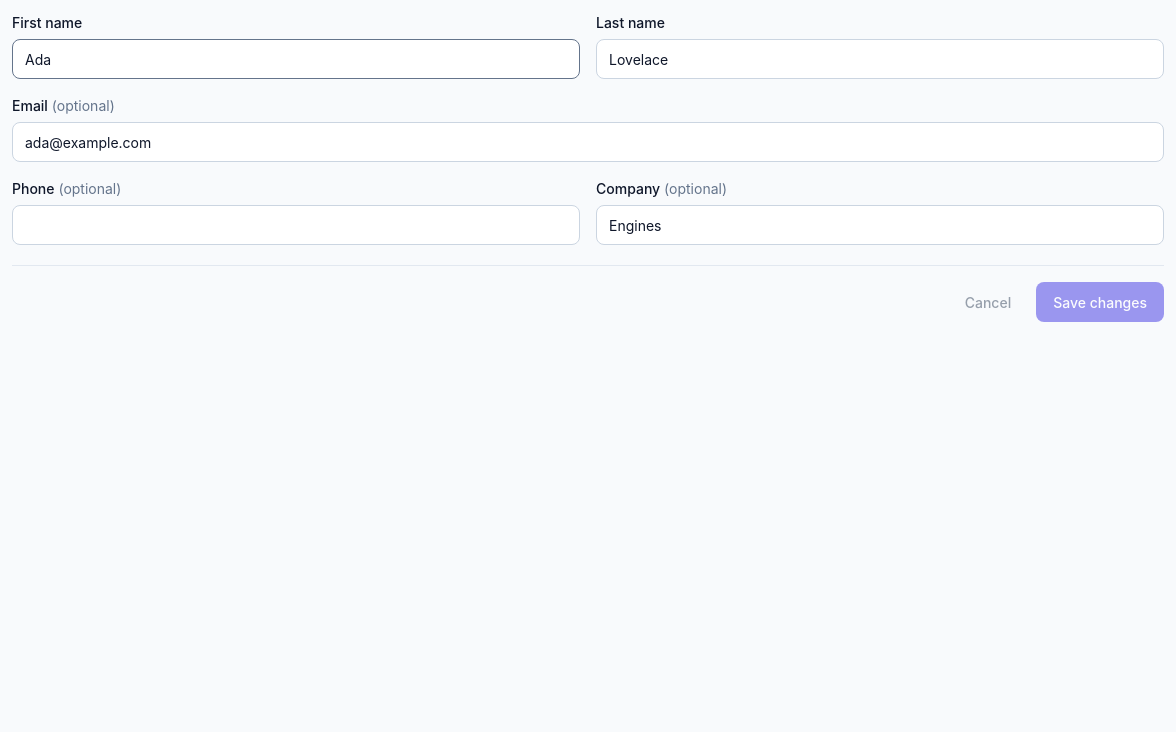
Test: ContactForm › sends only the changed fields with the version it was loaded with
Replace the text in the field labelled "Company (optional)" with "Analytical" at (880, 225), box [596,205,1164,245]
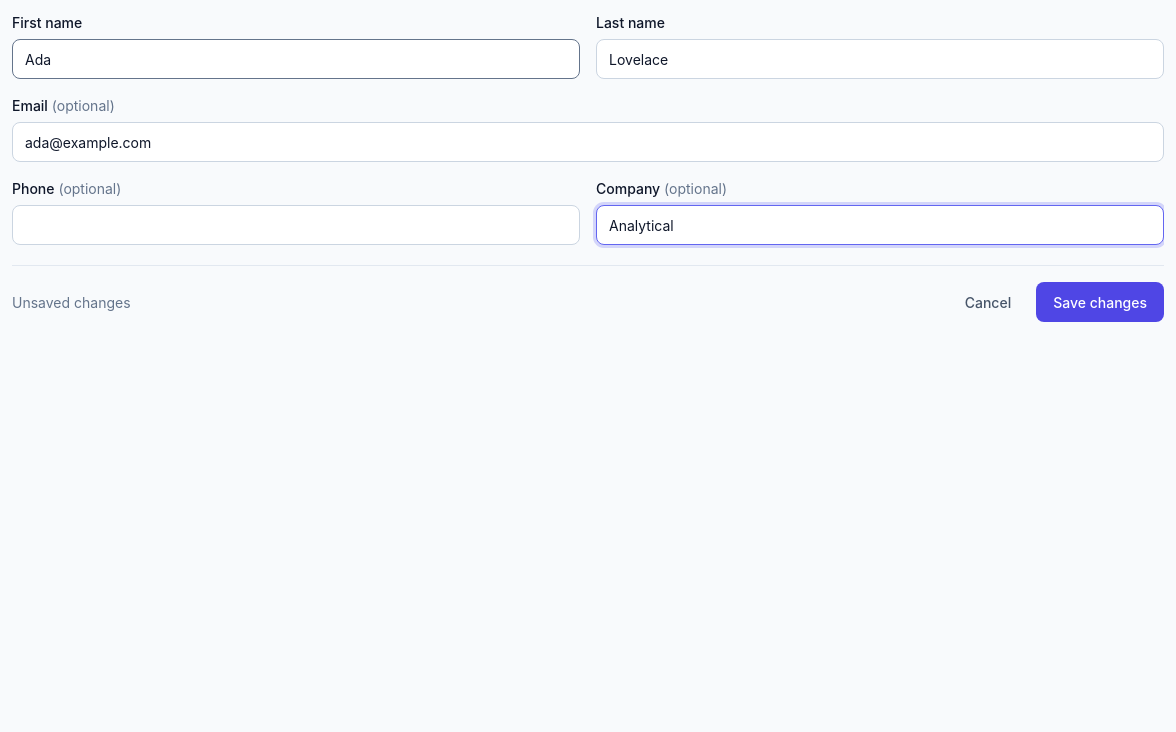
Click the button "Save changes" at (1100, 302), box [1036,282,1164,322]
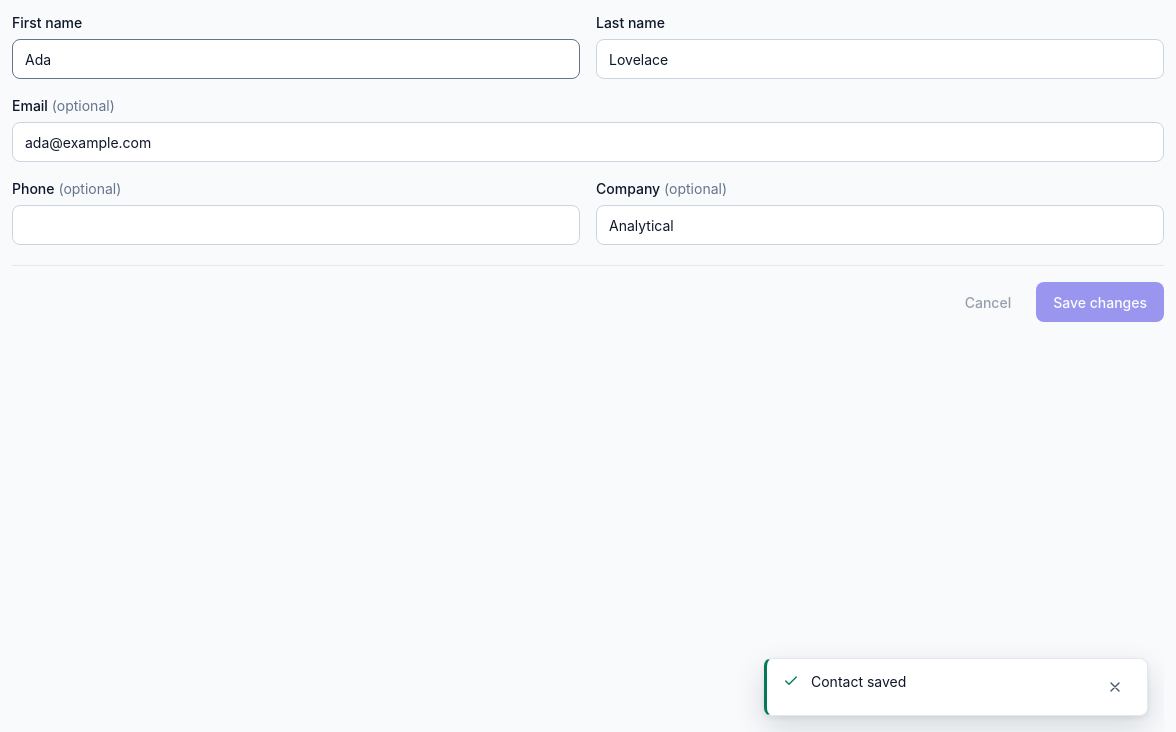
expect the text "Contact saved" is shown: met, box [811,673,906,690]
